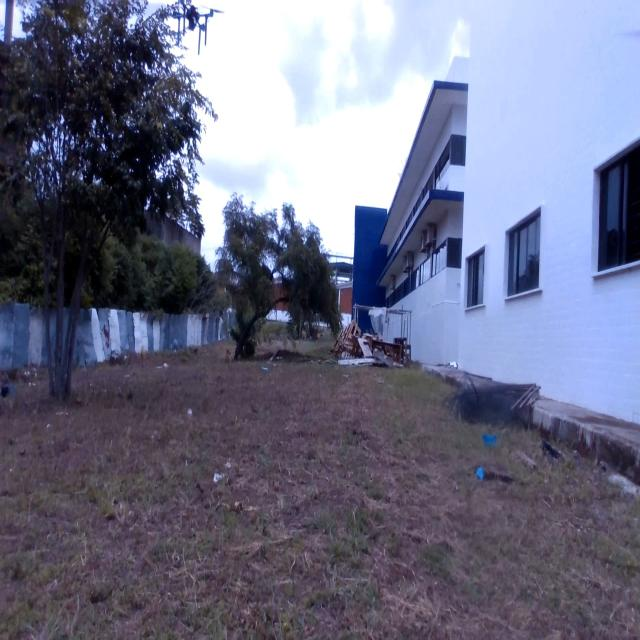-uav-: (164, 0, 228, 65)
